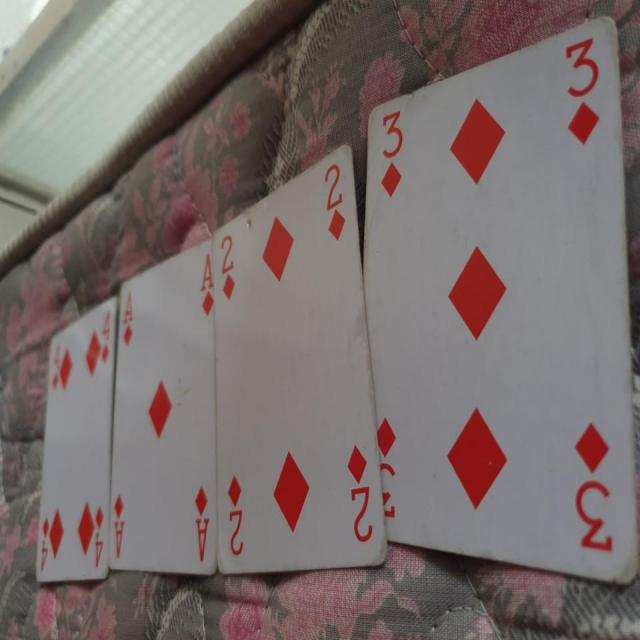2 Diamonds: (205, 144, 388, 569)
3 Diamonds: (354, 13, 637, 590)
4 Diamonds: (26, 293, 117, 586)
A Diamonds: (111, 240, 214, 578)
